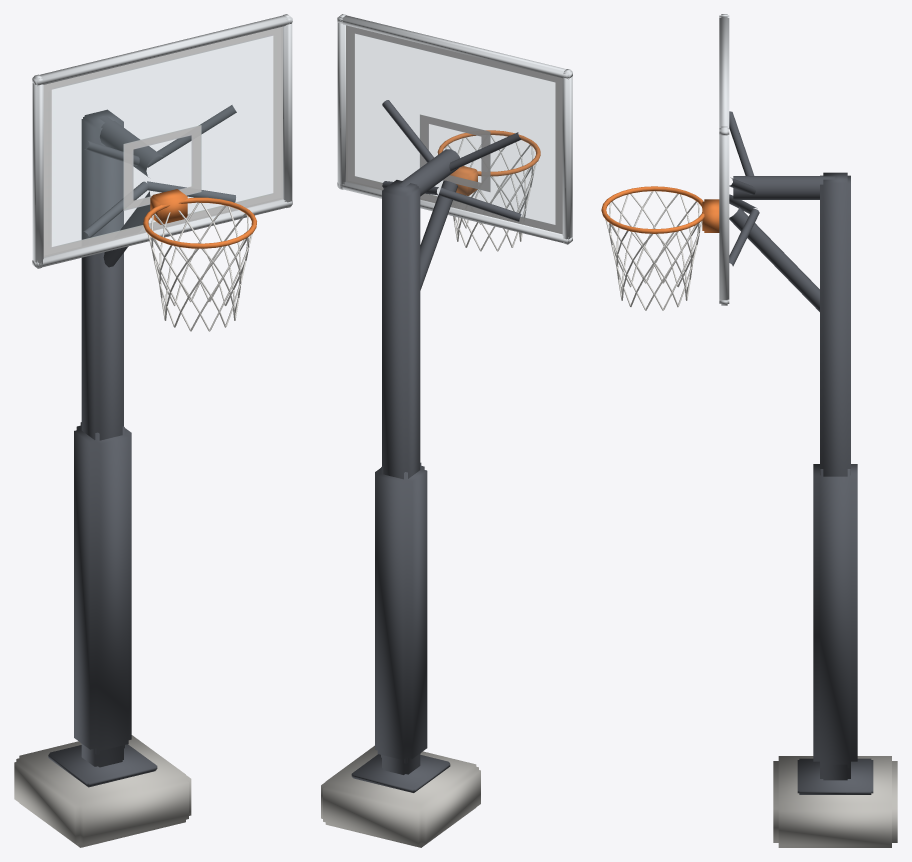
Rendered from hoop_post_aaa-12e7ad6a2765.glb.
3 renders of one model, left to right at view 1: azimuth 30°, elevation 25°; view 2: azimuth 150°, elevation 25°; view 3: azimuth 270°, elevation 25°, orthographic. The views are drawn at different scales.
Parts seen in each view (by area): view 1: hoop_post_mesh; view 2: hoop_post_mesh; view 3: hoop_post_mesh.
Boxes of the visible parts, left/top/right/bottom form: hoop_post_mesh: left=14, top=14, right=292, bottom=847; hoop_post_mesh: left=321, top=14, right=572, bottom=847; hoop_post_mesh: left=601, top=14, right=897, bottom=847.
Size of the model in its own units: 1.24 by 3.74 by 1.33.
Materials: 6 (1 with a texture image).
